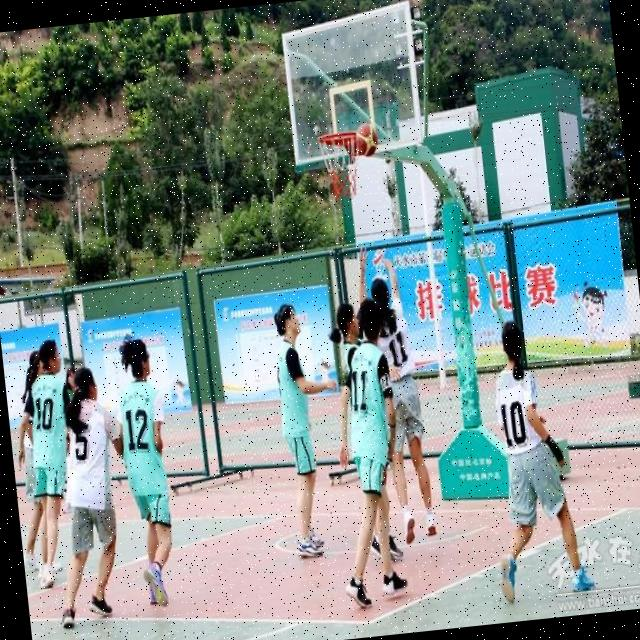ball: (355, 120, 380, 158)
hoop: (314, 130, 358, 146)
